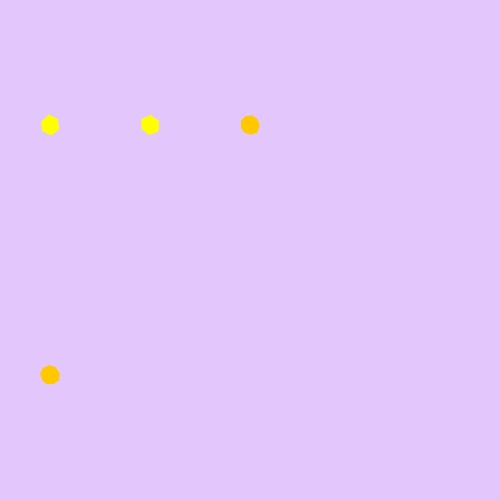hexagon: (35, 112, 65, 138), (135, 112, 165, 138)
nonagon: (236, 111, 265, 139), (36, 361, 65, 389)
